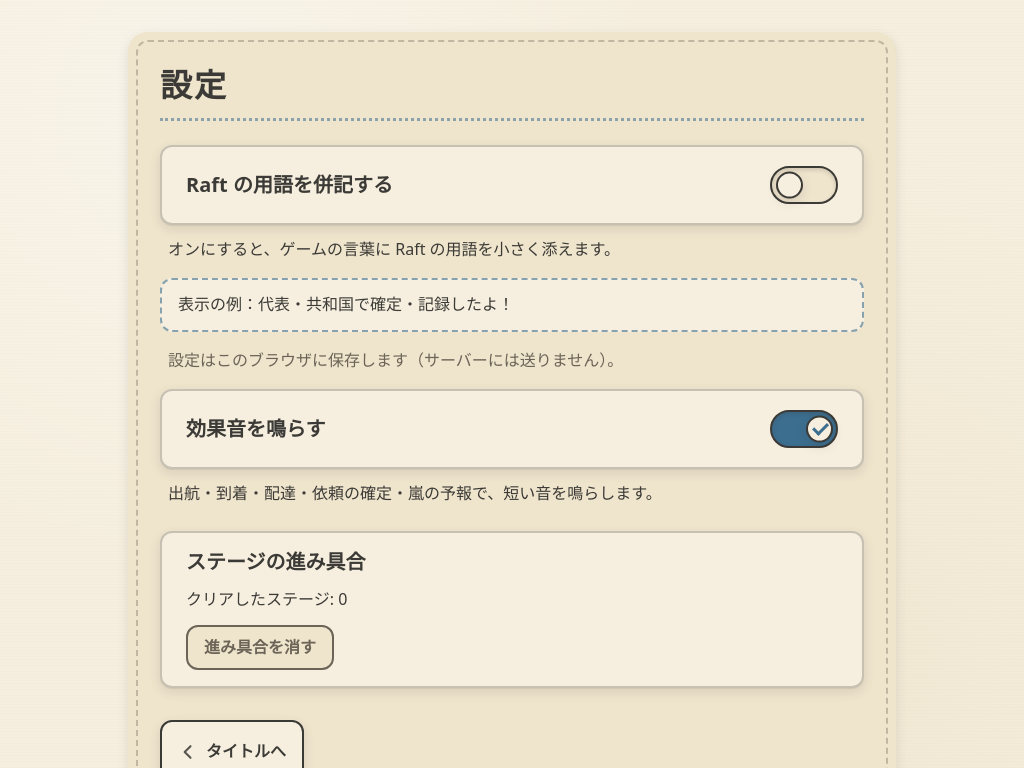
SettingsScreen › SE-4 保存できなかったことを表示する
Click the checkbox labelled "Raft の用語を併記する" at (804, 185), box [770,166,838,204]
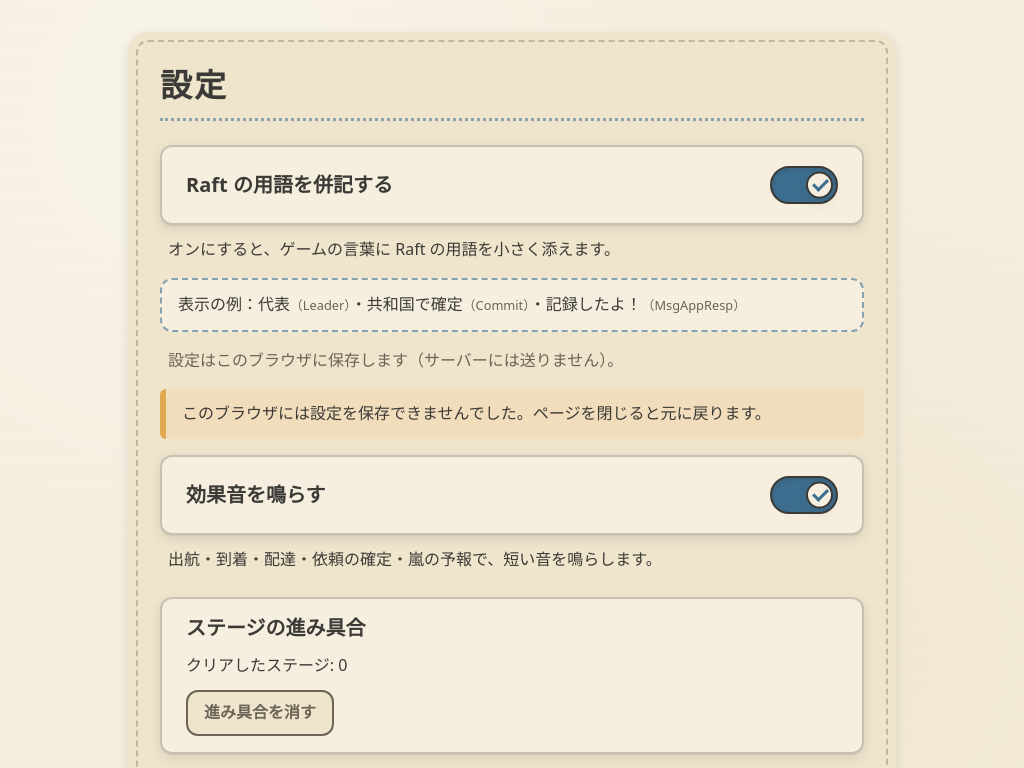
Now the checkbox labelled "Raft の用語を併記する" is checked, box [770,166,838,204]
Now the element with class "settings-terms-example" reads "表示の例：代表（Leader）・共和国で確定（Commit）・記録したよ！（MsgAppResp）", box [160,278,864,332]
Now the message reads "このブラウザには設定を保存できませんでした。ページを閉じると元に戻ります。", box [182,402,771,424]
